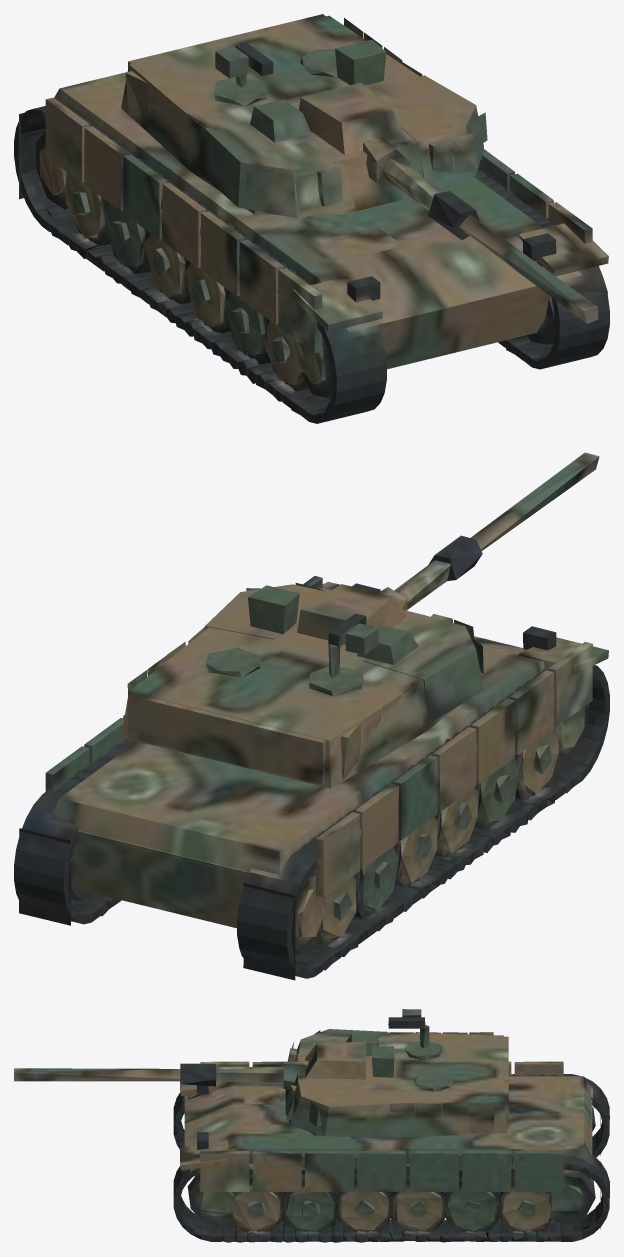
The model's file is ride_tank.glb.
The picture shows the model from 3 angles, top to bottom: view 1: azimuth 30°, elevation 25°; view 2: azimuth 150°, elevation 25°; view 3: azimuth 270°, elevation 25°; orthographic projection. The views are drawn at different scales.
Visible parts, largest first — view 1: LOW; view 2: LOW; view 3: LOW.
Part boxes in pixels (x1,y1,x2,y2): LOW: [14, 14, 609, 423]; LOW: [14, 452, 609, 980]; LOW: [14, 1009, 609, 1242].
Size of the model in its own units: 3.8 by 3.16 by 10.35.
1 material, 1 textured.
